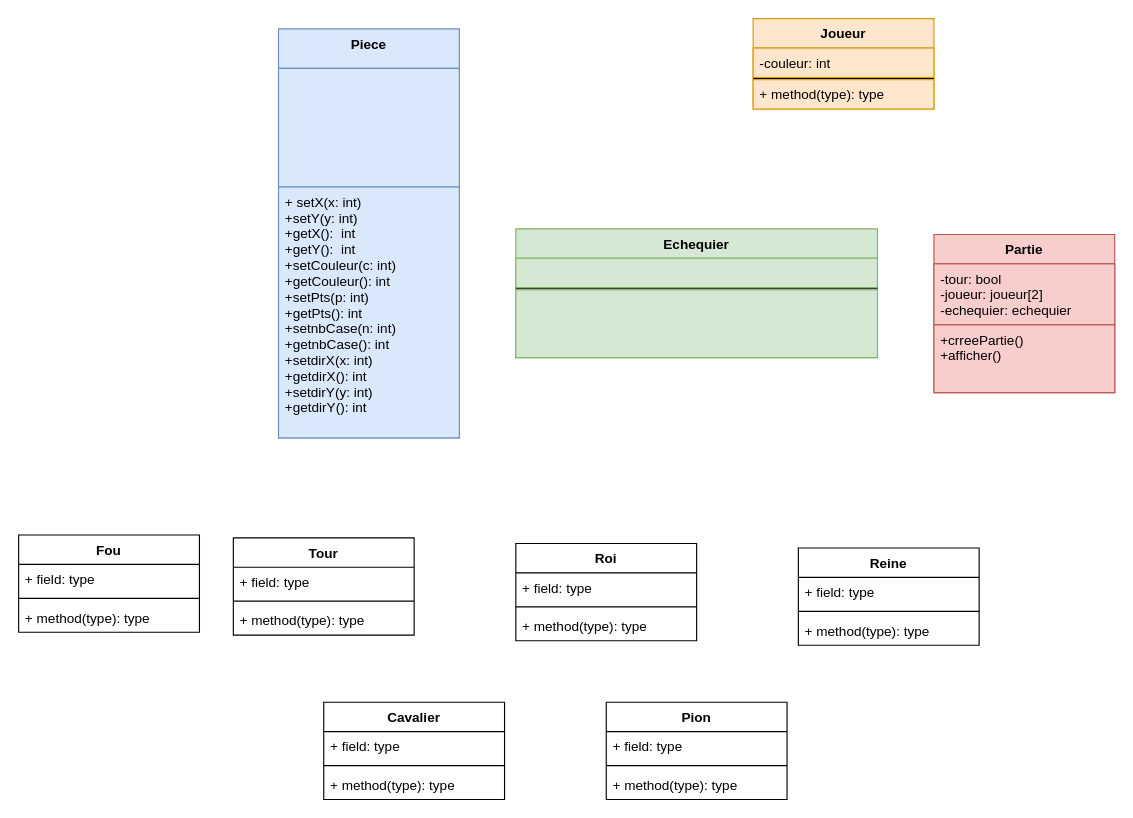
The diagram is 1133 pixels wide and 818 high, and some of its shapes have lost their labels. The shapes that lost their labels are listed below. From the top down, each one's centre as x and y in pixels, then its label:
pixel 368 127: - x: int - y: int -couleur: bool -dirX: int -dirY:int -nbCase: int -pts: int
pixel 696 272: -echequier : piece[8][8]
pixel 696 323: + deplacerPion(x: int, y: int, dirX: int, dirY: int) +genEchequier()
